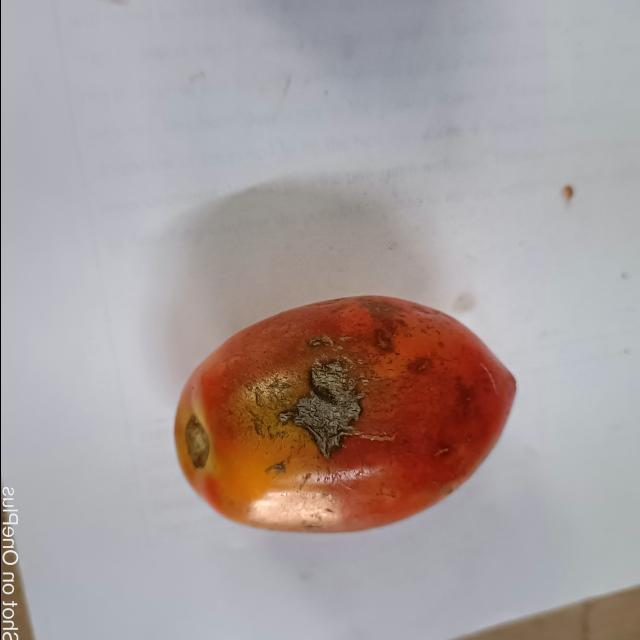Bacterial_Spot: (283, 334, 365, 462)
